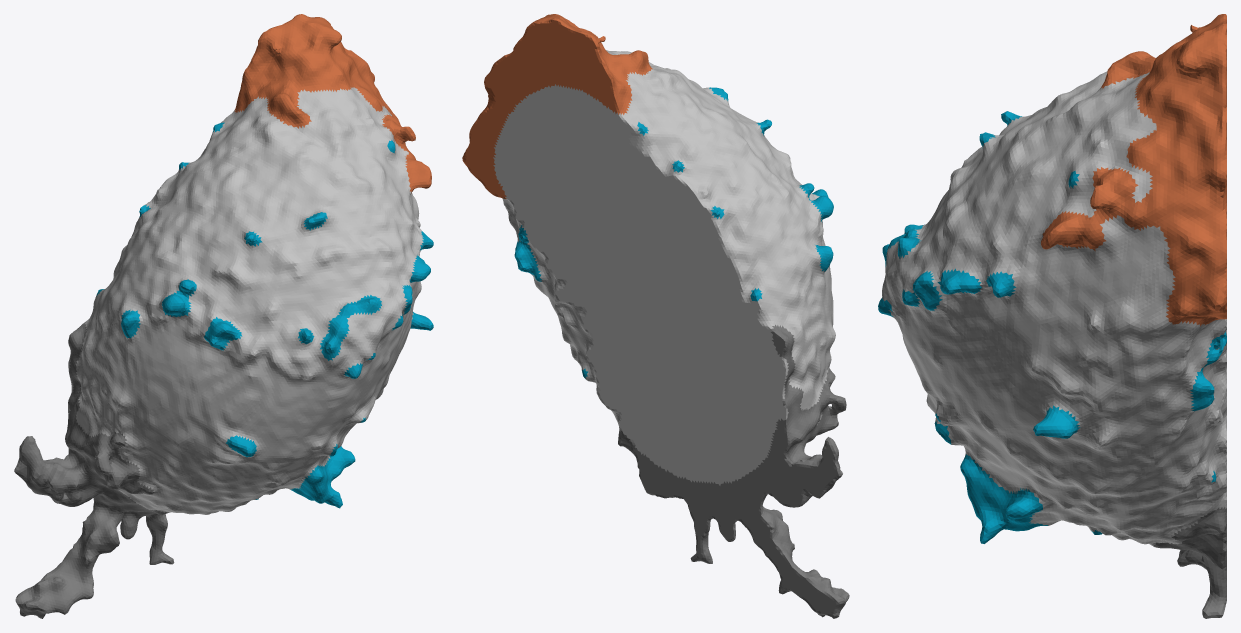
The picture shows the model from 3 angles, left to right: view 1: azimuth 30°, elevation 25°; view 2: azimuth 150°, elevation 25°; view 3: azimuth 270°, elevation 25°; orthographic projection. The views are drawn at different scales.
Size of the model in its own units: 121 by 162 by 71.58.
